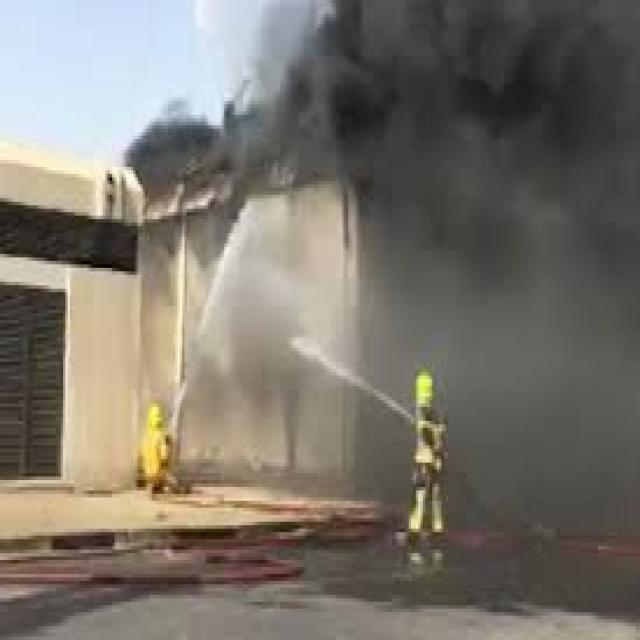Smoke: (123, 0, 640, 533)
